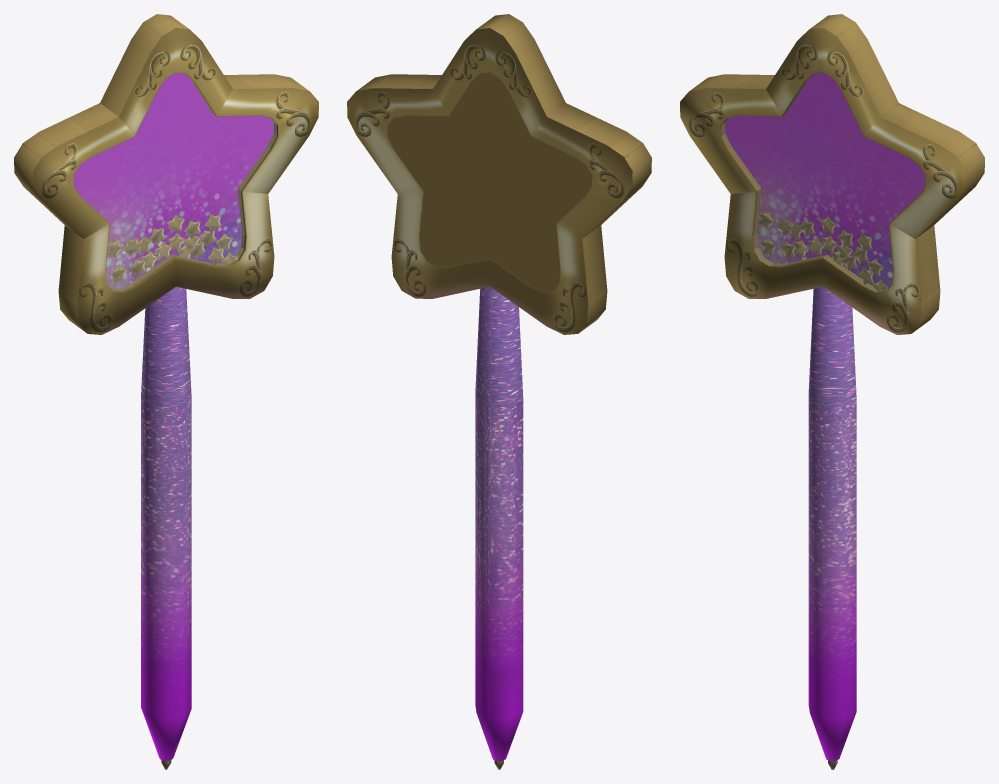
Rendered from GlitterPenNEW.fbx.
The picture shows the model from 3 angles, left to right: view 1: azimuth 30°, elevation 25°; view 2: azimuth 150°, elevation 25°; view 3: azimuth 330°, elevation 25°; orthographic projection.
Visible parts, largest first — view 1: Pen.001; view 2: Pen.001; view 3: Pen.001.
Part boxes in pixels (x1,y1,x2,y2): Pen.001: (14, 14, 318, 769); Pen.001: (347, 14, 651, 769); Pen.001: (680, 14, 984, 769).
Size of the model in its own units: 5843 by 14626 by 883.
2 materials, 1 textured.
